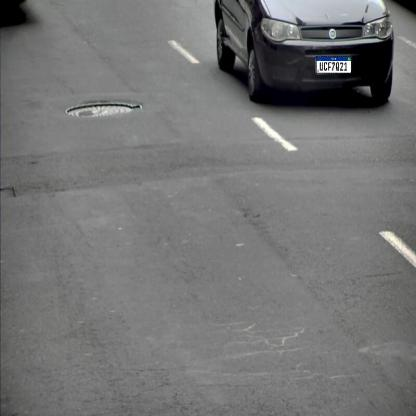PlacaM: (316, 56, 352, 74)
